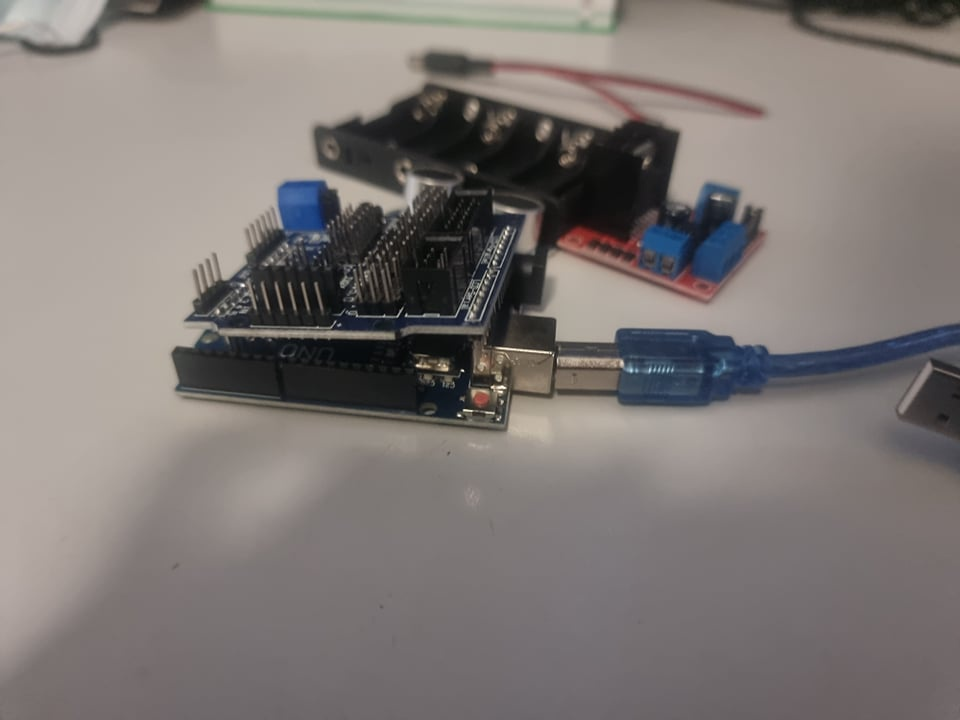5V EXPANSION: (180, 163, 519, 324)
BATTERY BOX: (303, 58, 588, 195)
MOTOR: (554, 109, 773, 303)
UNO R3: (171, 329, 571, 434)
